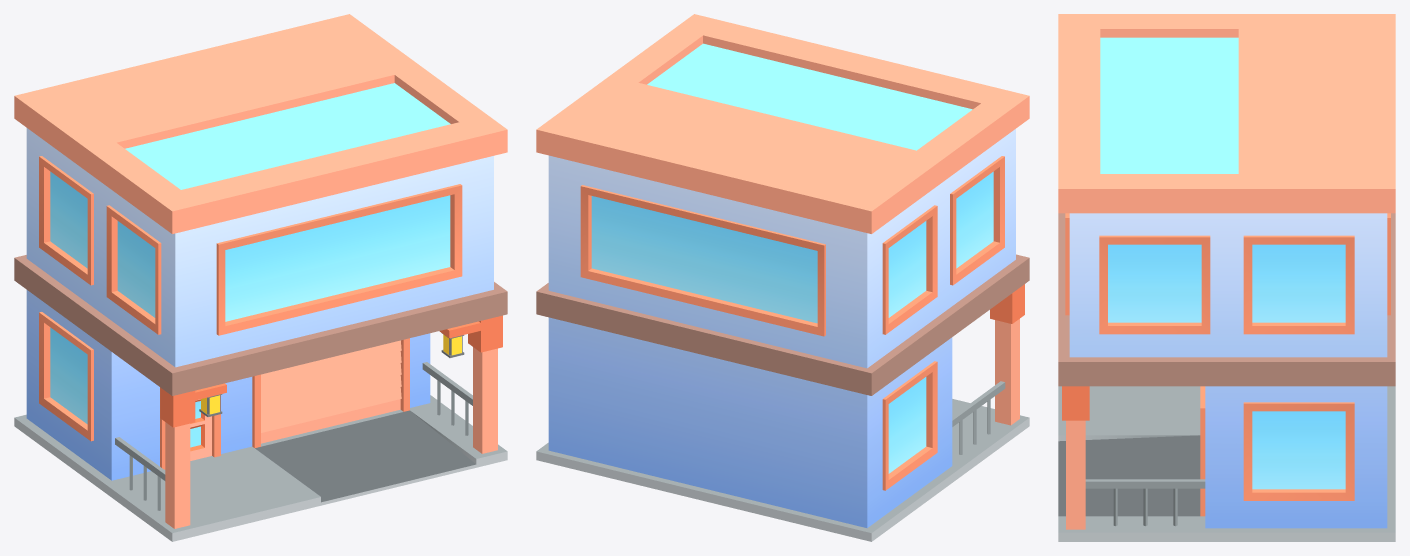
File: city2-building-living-17.glb
The picture shows the model from 3 angles, left to right: view 1: azimuth 30°, elevation 25°; view 2: azimuth 150°, elevation 25°; view 3: azimuth 270°, elevation 25°; orthographic projection. The views are drawn at different scales.
Parts seen in each view (by area): view 1: Building_Living_17; view 2: Building_Living_17; view 3: Building_Living_17.
Boxes of the visible parts, x1=… form: Building_Living_17: x1=14, y1=14, x2=507, y2=541; Building_Living_17: x1=536, y1=14, x2=1029, y2=541; Building_Living_17: x1=1058, y1=14, x2=1395, y2=541.
Size of the model in its own units: 8.03 by 7.57 by 6.55.
1 material, 1 textured.
